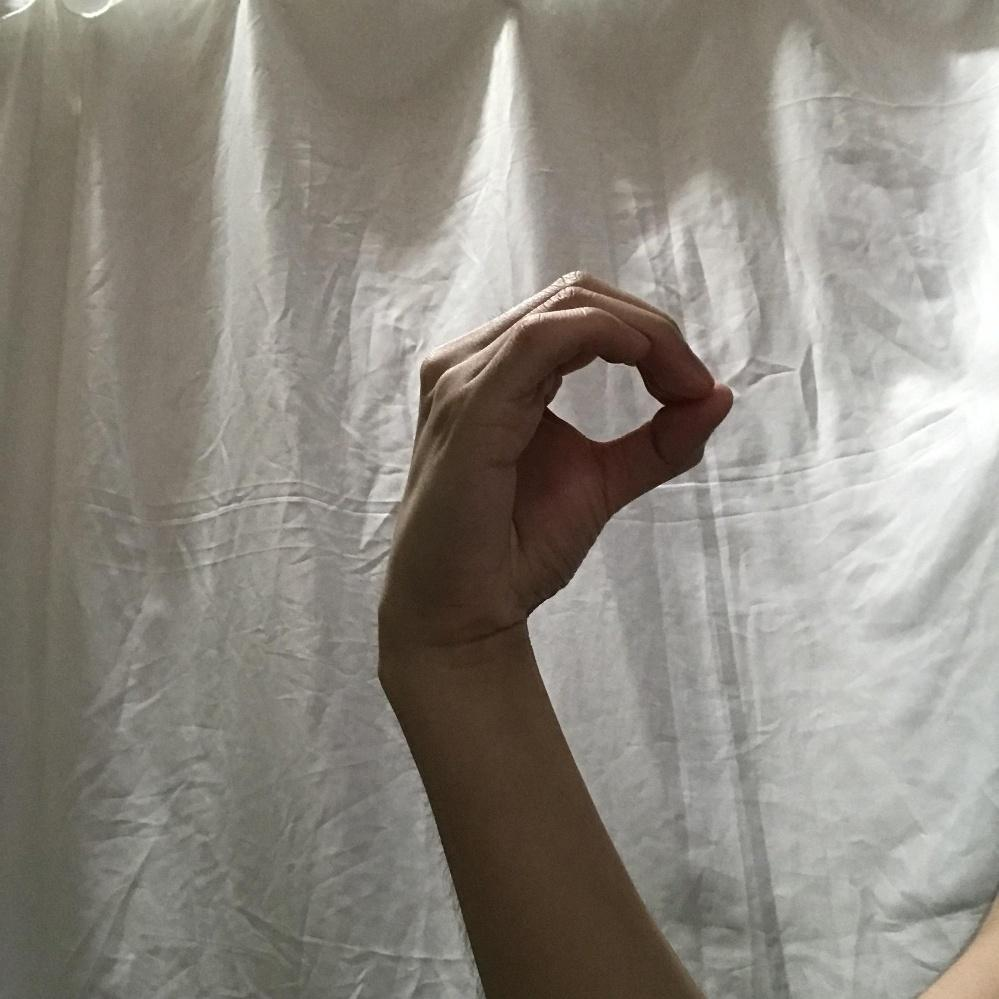o: (383, 275, 736, 627)
